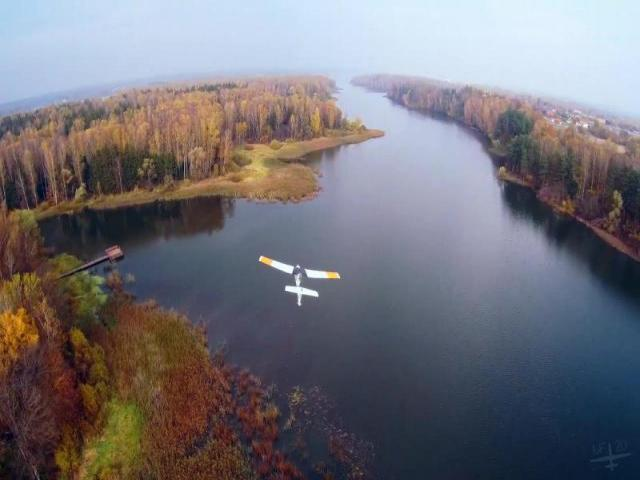hedef: (255, 245, 338, 311)
